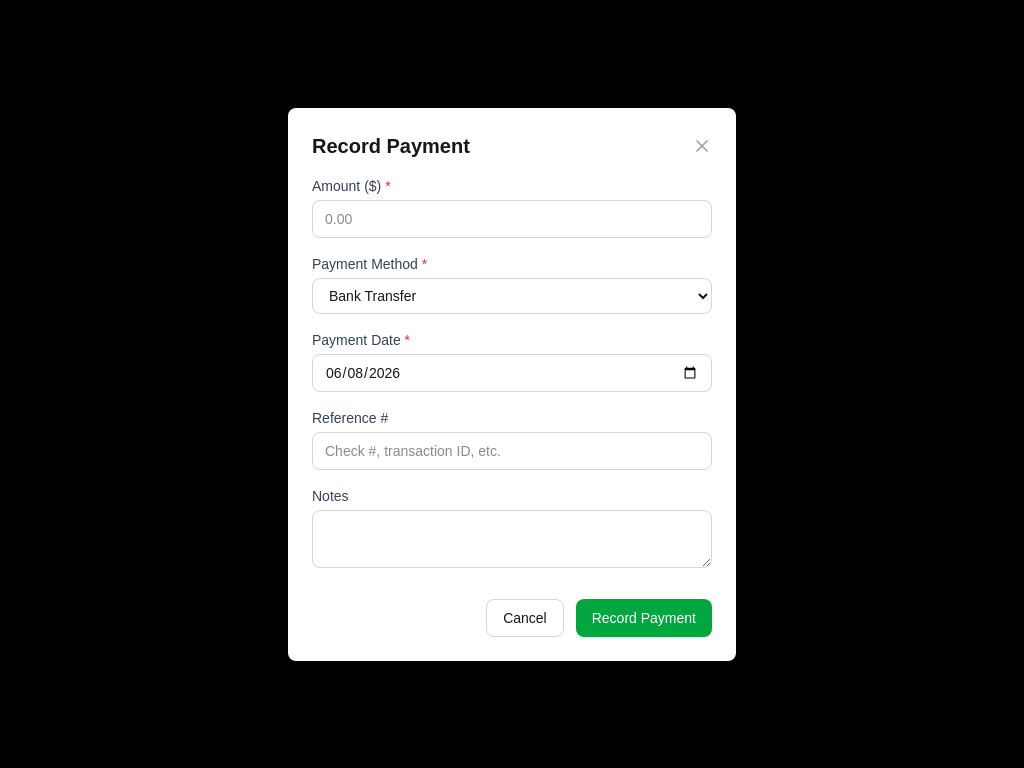
RecordPaymentDialog › shows validation error for invalid amount format
Step 1. Type "abc" into the field labelled "Amount ($) *" → (512, 218), box [312, 200, 712, 238]
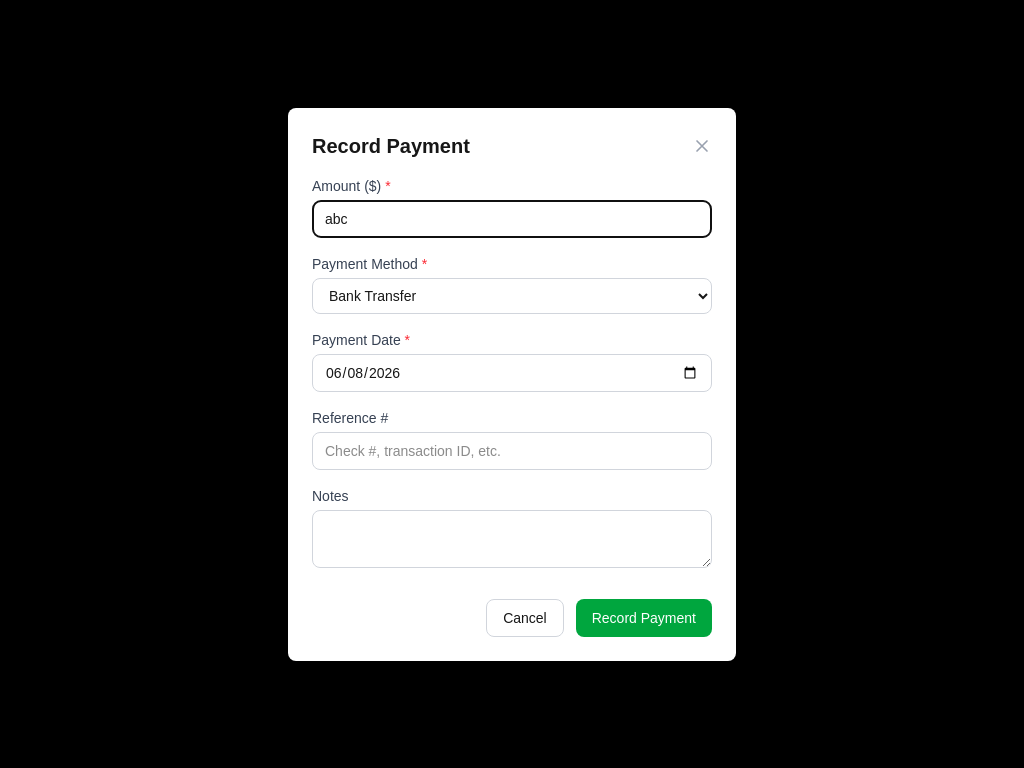
Step 2. Submit the form named "record payment", box [312, 176, 712, 636]
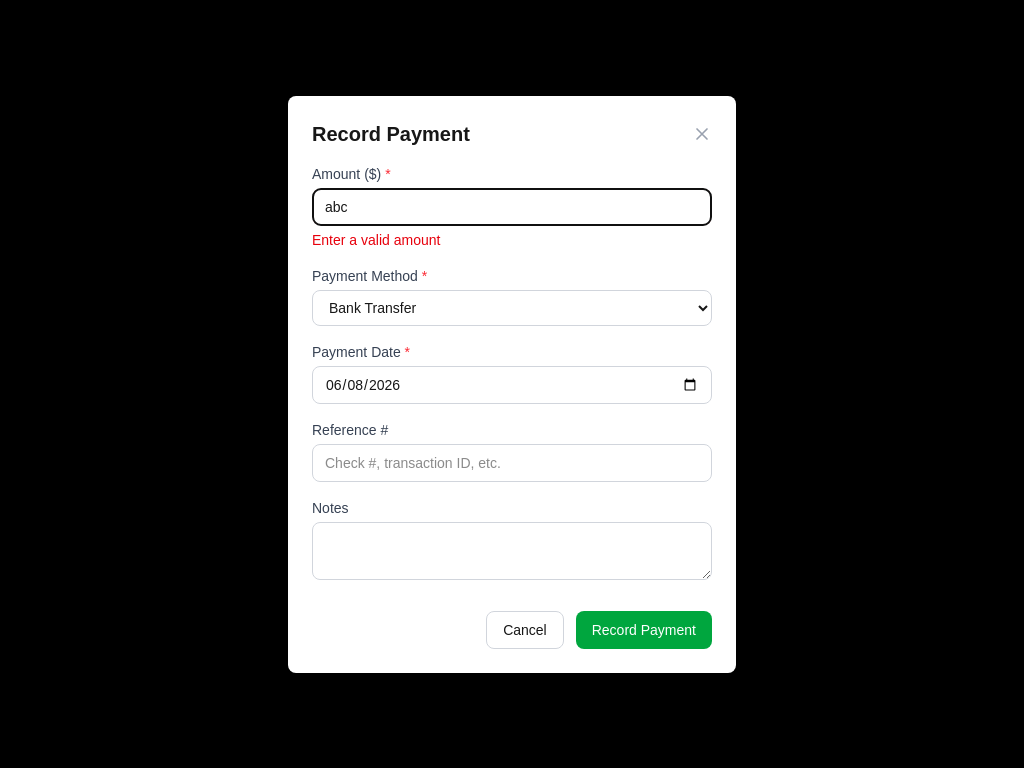
Now the text "Enter a valid amount" is shown, box [312, 232, 440, 248]
